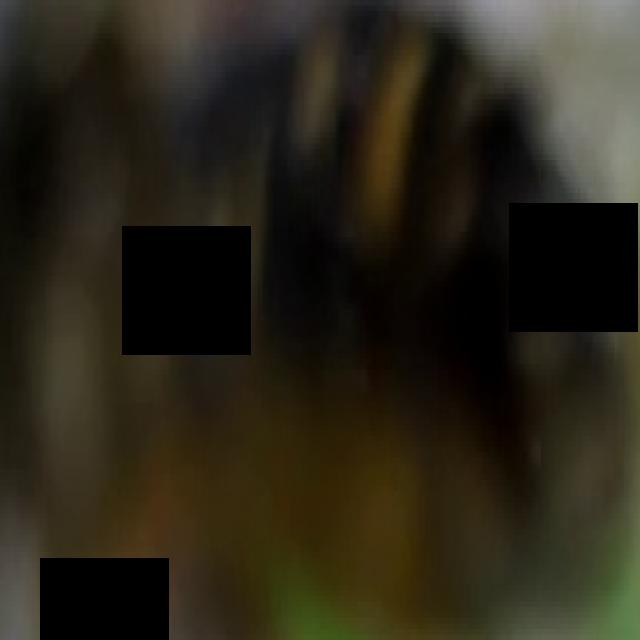fish: (2, 5, 639, 640)
